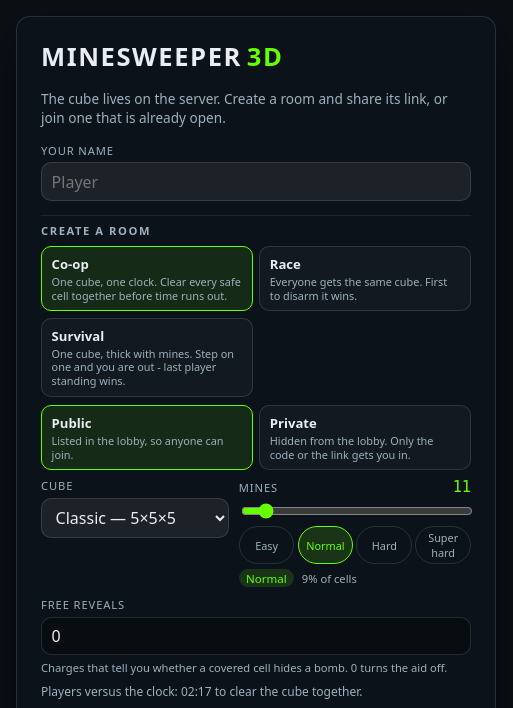
Scenario: WelcomeScreen › a smaller cube cannot spend more charges than it has cells
Replace the text in the number field with test id "welcome-free-reveals" with "50": point(256, 636) [41,617,471,655]
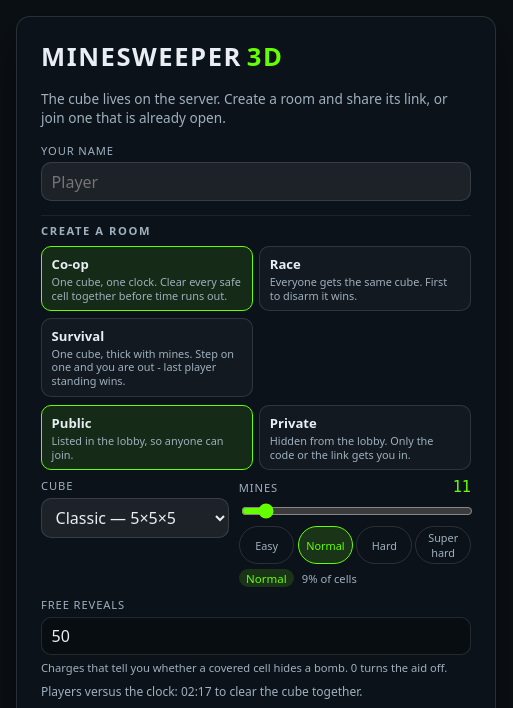
Select "Tiny — 3×3×3" in the dropdown with test id "welcome-preset": point(135, 518) [41,498,229,538]
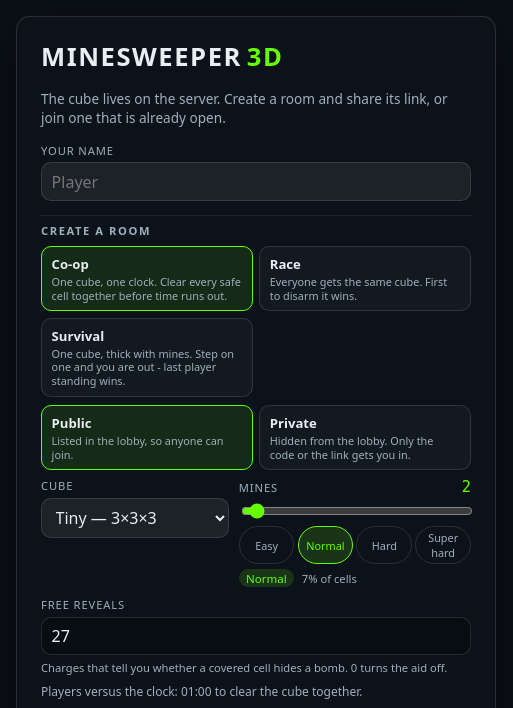
Expected: the number field with test id "welcome-free-reveals" holds "27", [41,617,471,655]
